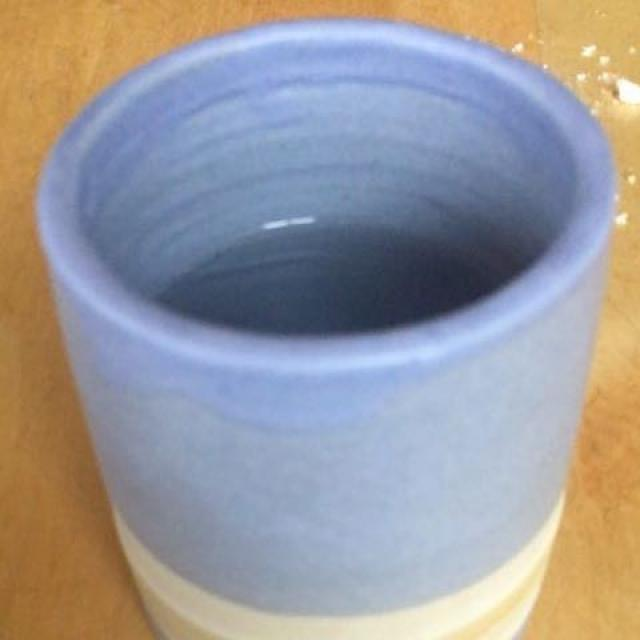water: (135, 218, 490, 342)
